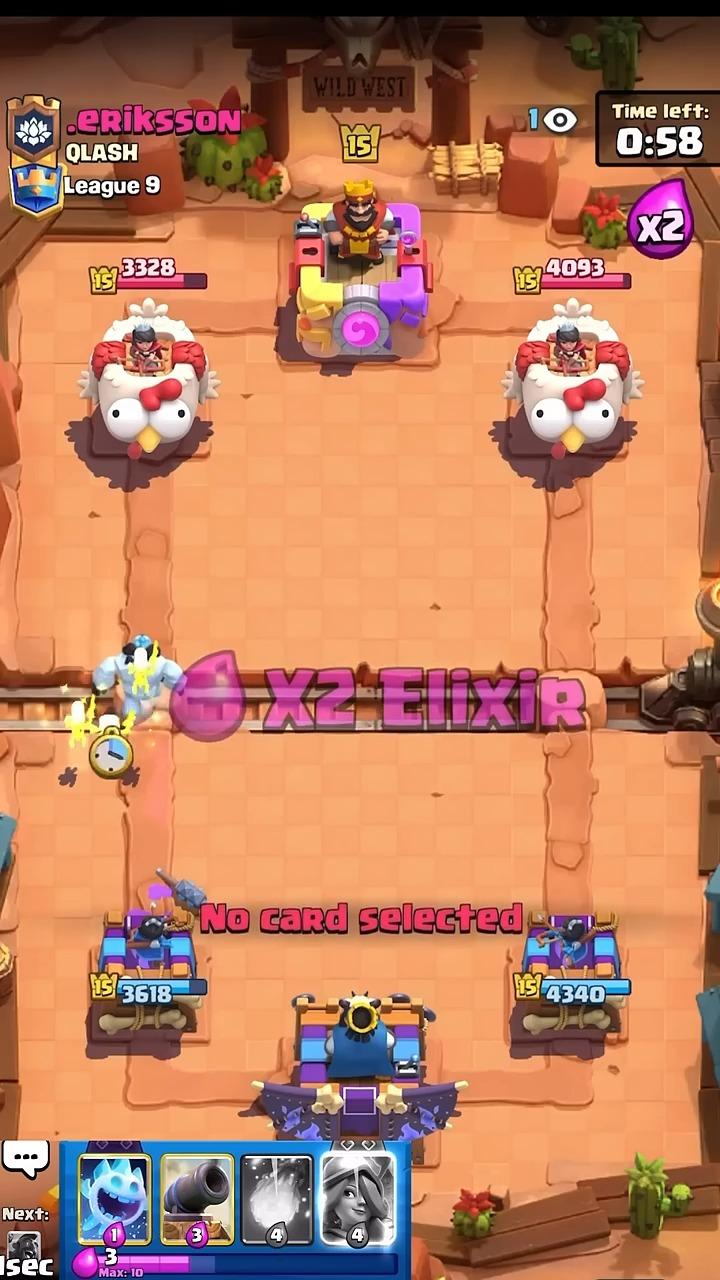ice golem: (92, 636, 184, 721)
skeletons: (65, 694, 136, 744), (131, 645, 158, 696)
